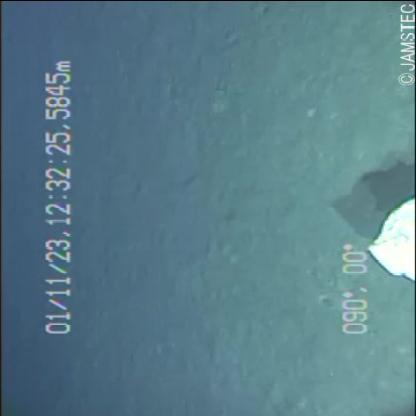Rác: (359, 192, 415, 286)
